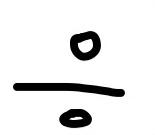div: (14, 30, 125, 128)
